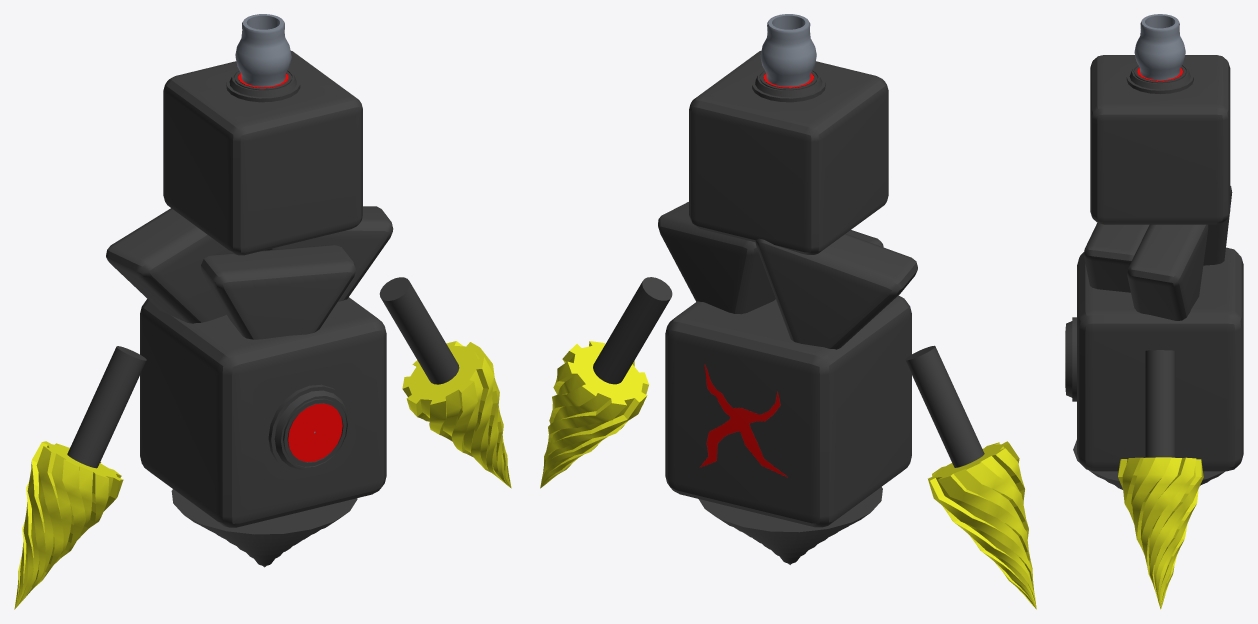
Rendered from Boss10.fbx.
3 renders of one model, left to right at view 1: azimuth 30°, elevation 25°; view 2: azimuth 150°, elevation 25°; view 3: azimuth 270°, elevation 25°, orthographic. The views are drawn at different scales.
Visible parts, largest first — view 1: polySurface1; view 2: polySurface1; view 3: polySurface1.
Boxes of the visible parts, <box> form: polySurface1: <box>14,14,511,609</box>; polySurface1: <box>540,14,1036,609</box>; polySurface1: <box>1065,14,1243,609</box>.
Bounding box in the file's own units: 57.61 × 60.23 × 19.76.
